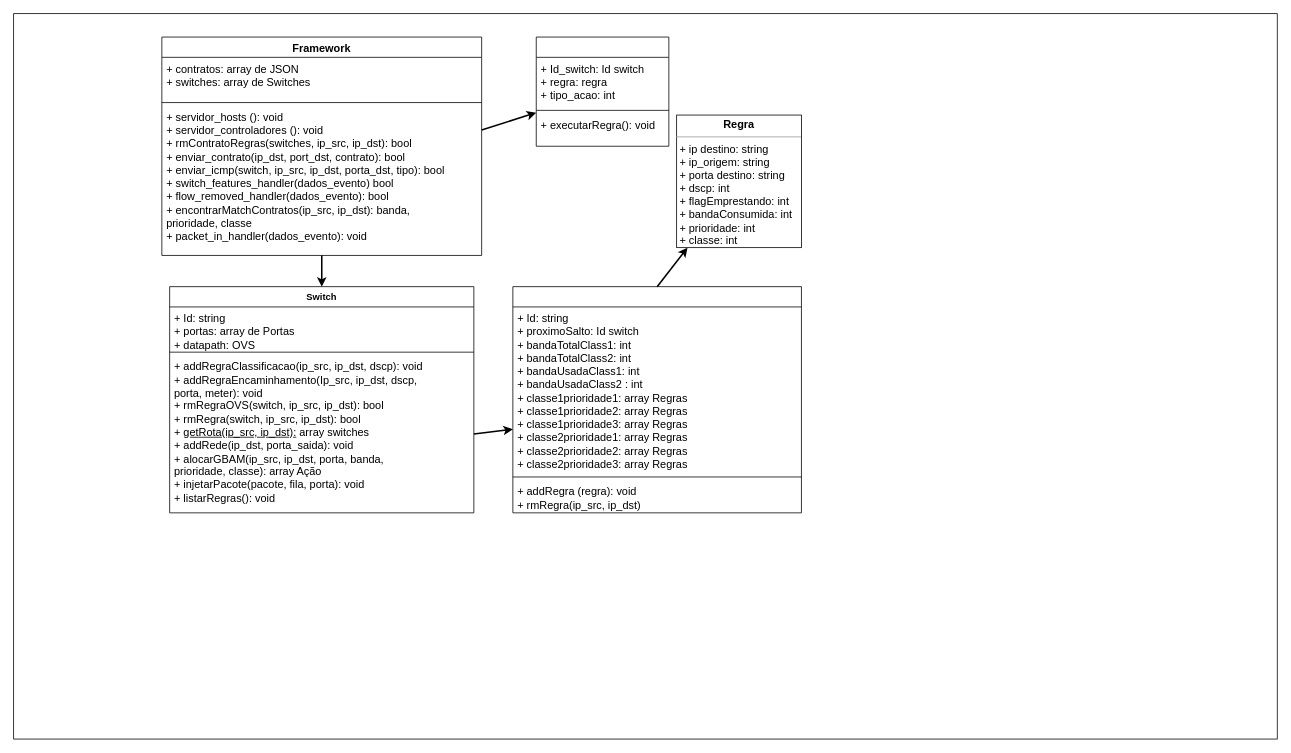
The diagram is 1291 pixels wide and 753 high, and some of its shapes have lost their labels. Here are the shapes that lost their labels. From the top down, the box of each, then its label:
(535, 36, 669, 146): Ação
(512, 286, 801, 513): Porta
